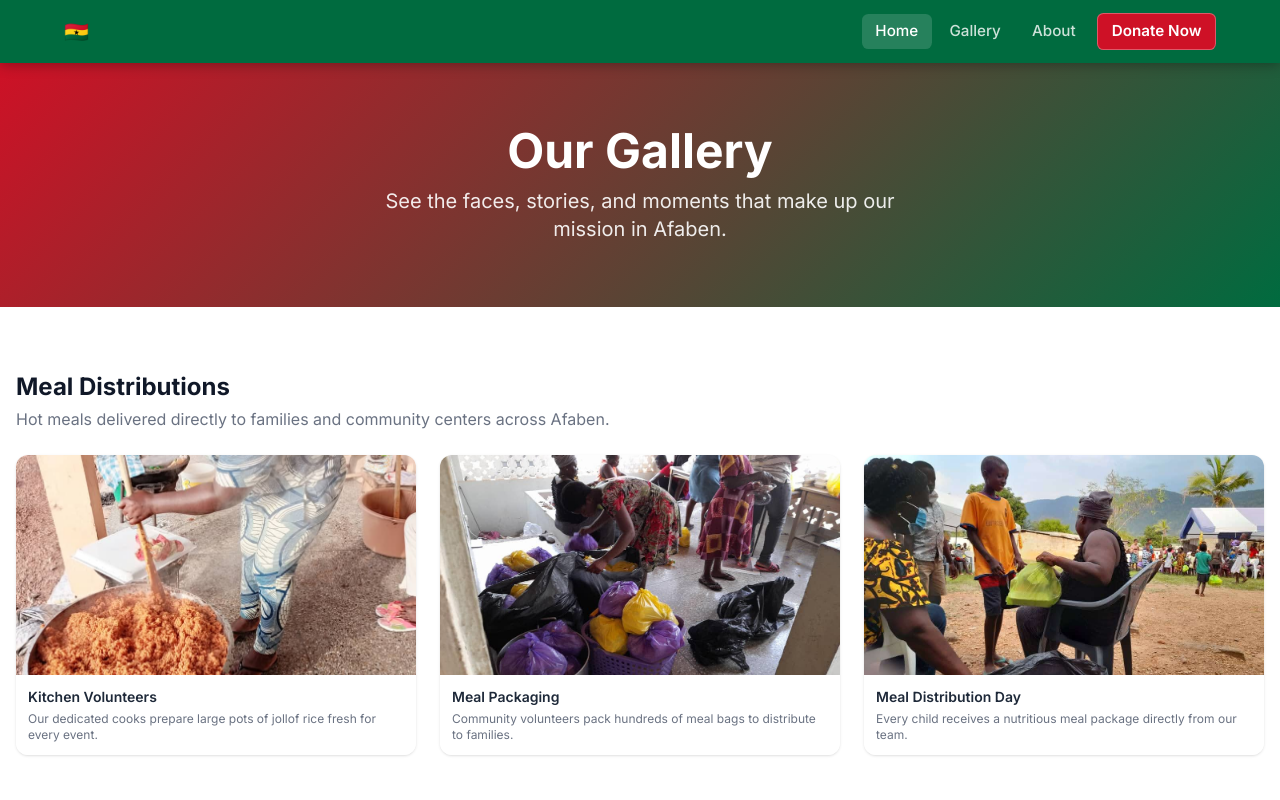
it: Gallery page › closes lightbox when × button is clicked
Click the button with aria-label "Open photo: Kitchen Volunteers". click: (216, 605)
box: [16,455,416,755]
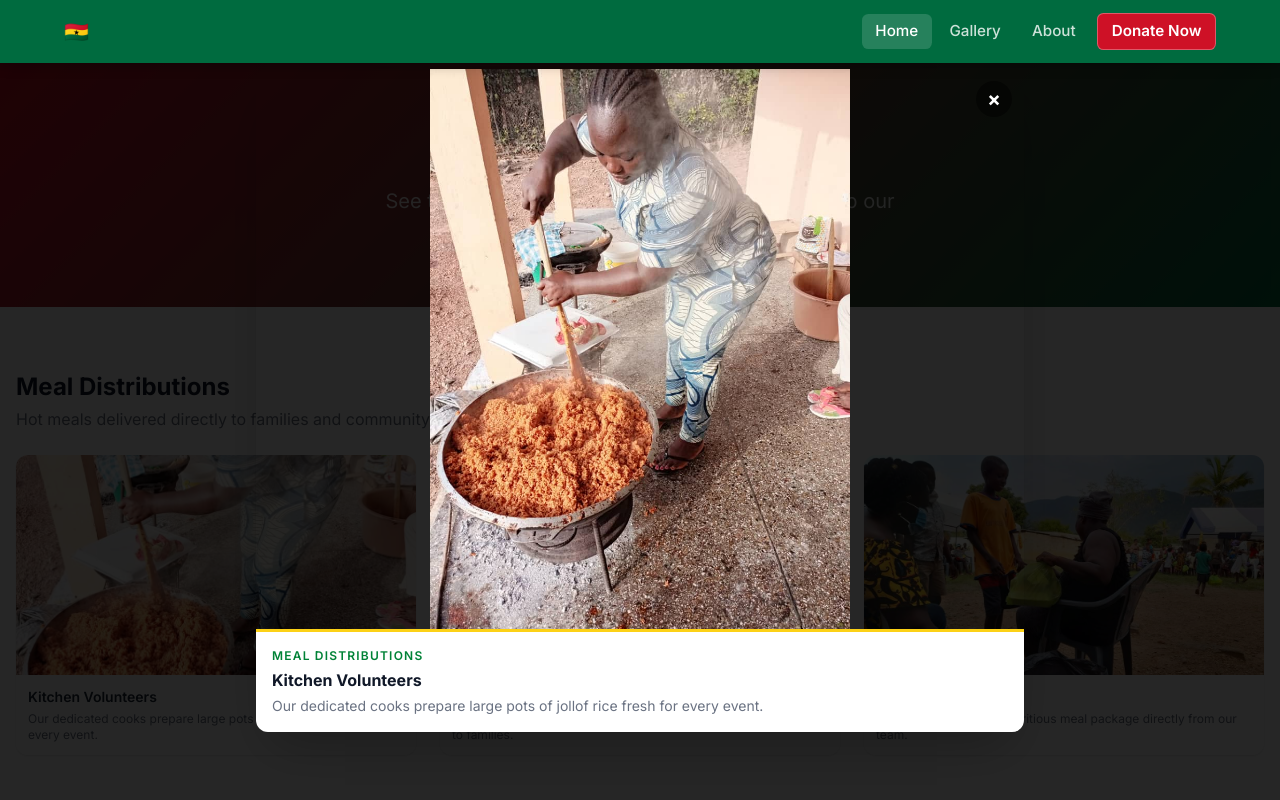
expect the element with test id "lightbox-overlay" is shown: met
Click the button named "Close lightbox". click: (994, 98)
box: [976,80,1012,116]
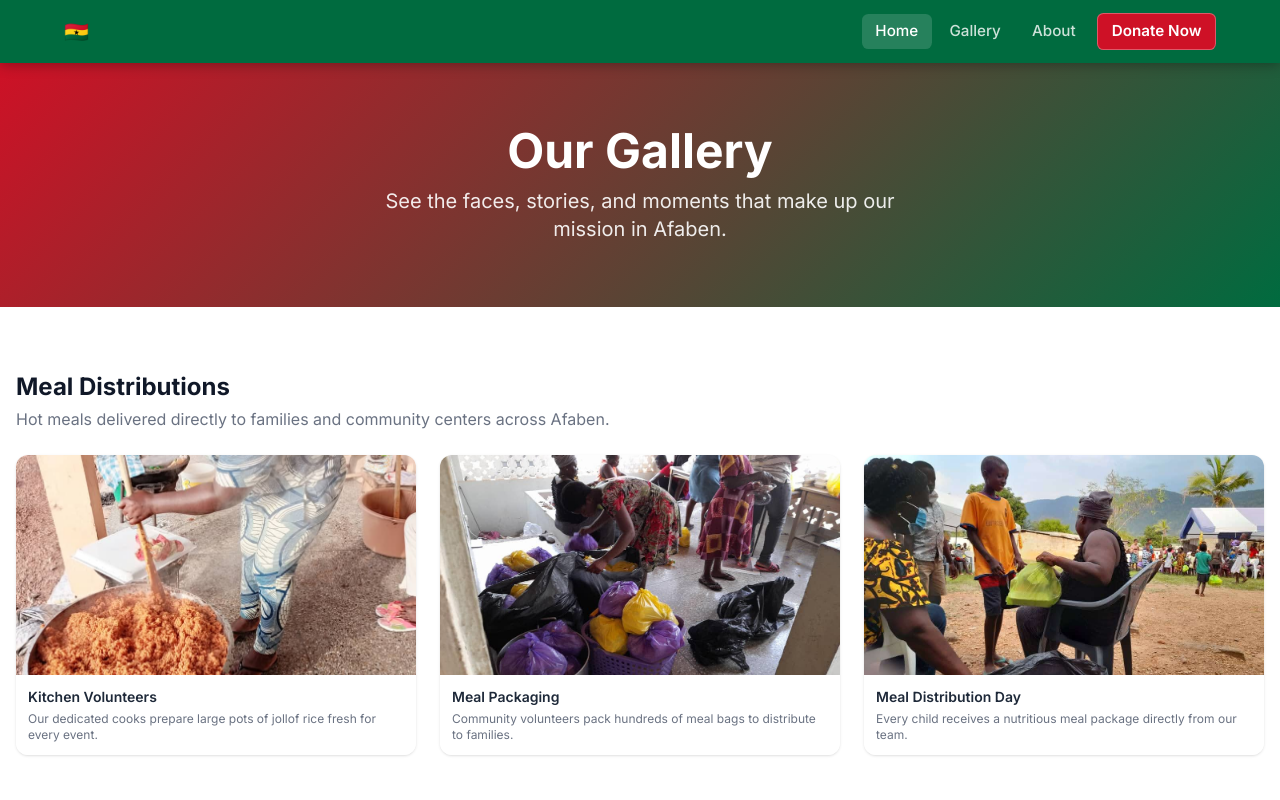
expect the element with test id "lightbox-overlay" is gone: met
